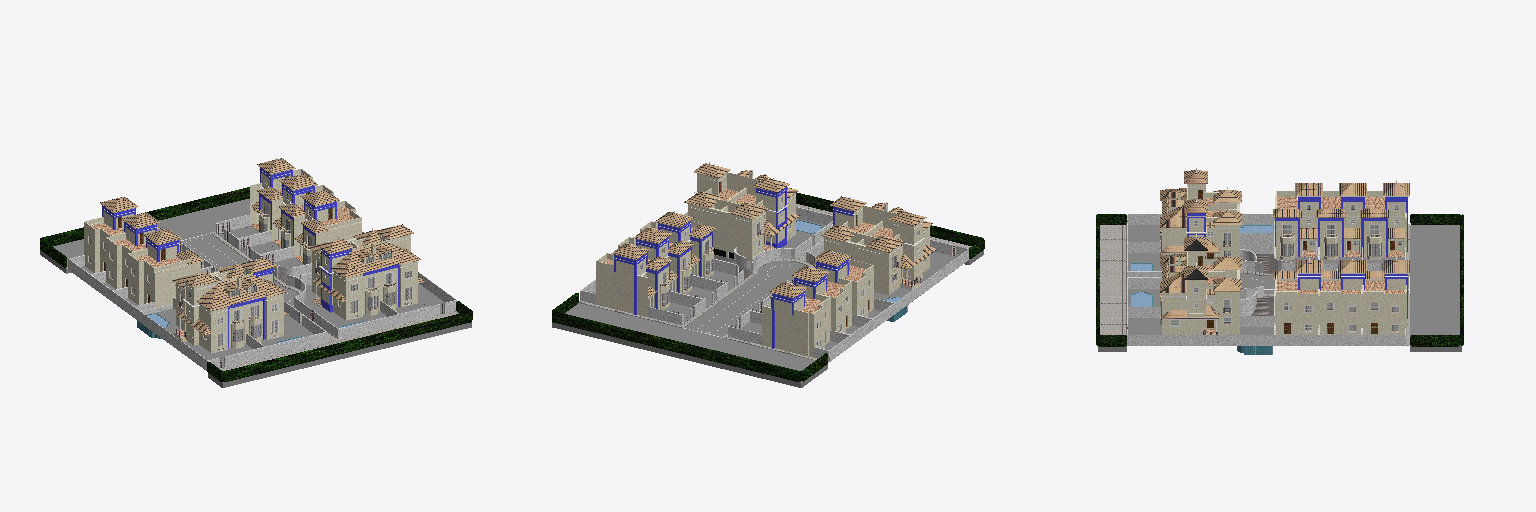
3 renders of one model, left to right at view 1: azimuth 30°, elevation 25°; view 2: azimuth 150°, elevation 25°; view 3: azimuth 270°, elevation 25°, orthographic.
Visible parts, largest first — view 1: ventanas_arcos_00; view 2: ventanas_arcos_00; view 3: ventanas_arcos_00.
Boxes of the visible parts, box(x1,y1,x2,y2) form: ventanas_arcos_00: box(40, 158, 472, 387); ventanas_arcos_00: box(552, 162, 984, 387); ventanas_arcos_00: box(1096, 168, 1463, 354).
Bounding box in the file's own units: 47.81 × 14.2 × 60.42.
22 materials, 16 textured.